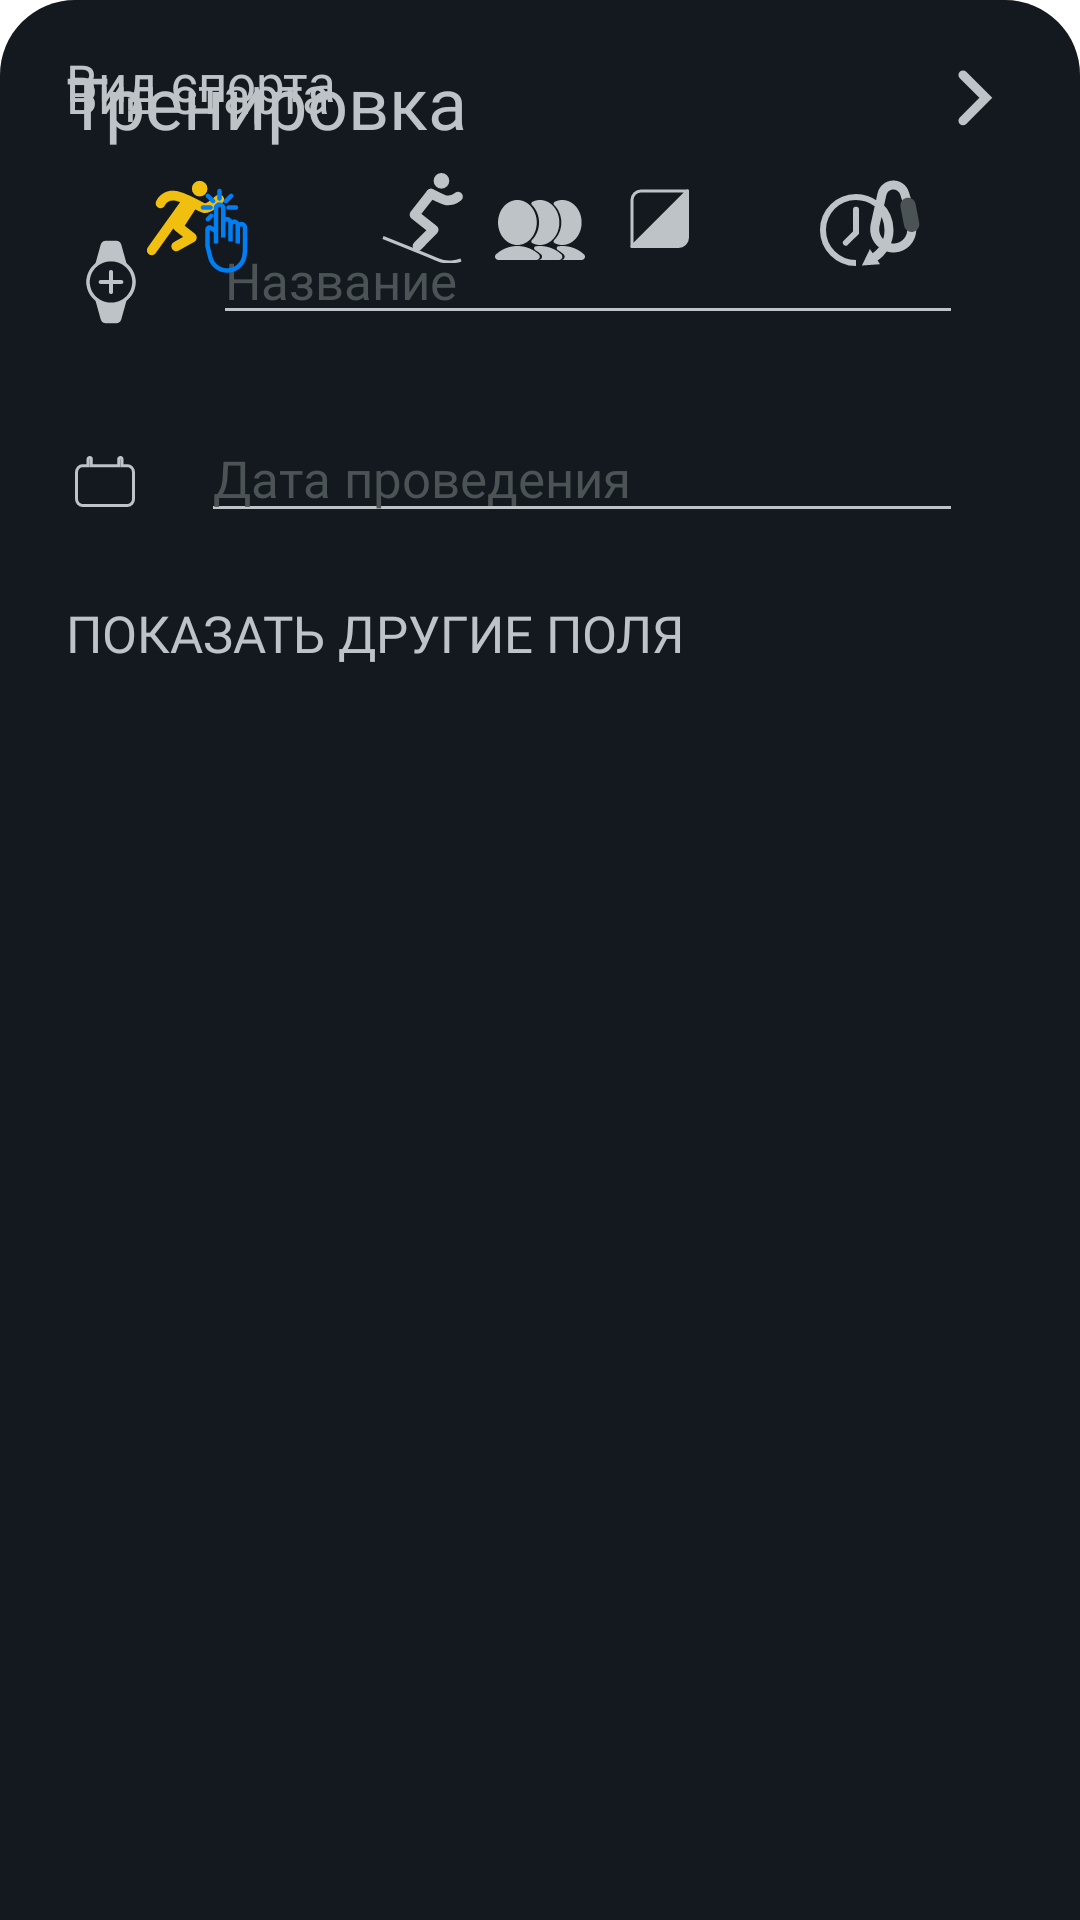

Screen size 1080w x 1920h. Icon name, then its center in pixels as point (x, y):
date: point (105, 481)
right arrow: point (975, 98)
watch mini: point (111, 282)
